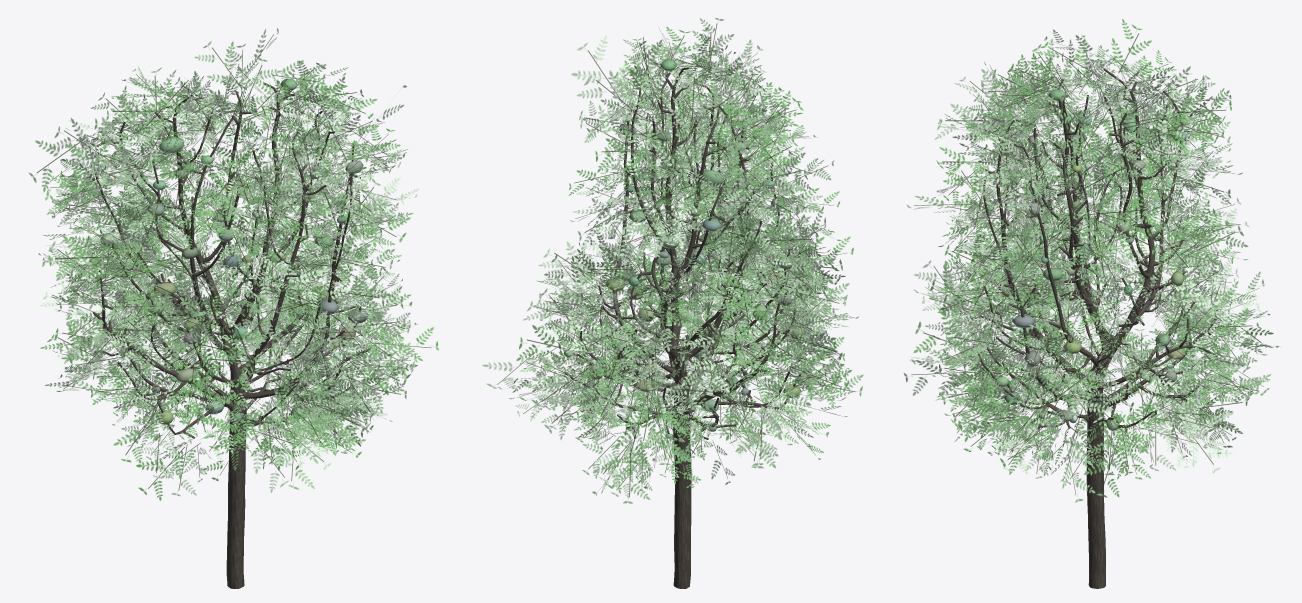
Rendered from tree_65_broadleaf.glb.
The picture shows the model from 3 angles, left to right: view 1: azimuth 30°, elevation 25°; view 2: azimuth 150°, elevation 25°; view 3: azimuth 270°, elevation 25°; orthographic projection.
Visible parts, largest first — view 1: tree_65_broadleaf.leaves, tree_65_broadleaf.trunk_branches, tree_65_broadleaf.foliage_volume; view 2: tree_65_broadleaf.leaves, tree_65_broadleaf.trunk_branches, tree_65_broadleaf.foliage_volume; view 3: tree_65_broadleaf.leaves, tree_65_broadleaf.trunk_branches, tree_65_broadleaf.foliage_volume.
Boxes of the visible parts, box(x1,y1,x2,y2) form: tree_65_broadleaf.leaves: box(29, 28, 438, 500); tree_65_broadleaf.trunk_branches: box(92, 82, 367, 588); tree_65_broadleaf.foliage_volume: box(100, 78, 367, 426); tree_65_broadleaf.leaves: box(482, 18, 863, 503); tree_65_broadleaf.trunk_branches: box(565, 67, 800, 588); tree_65_broadleaf.foliage_volume: box(563, 59, 805, 438); tree_65_broadleaf.leaves: box(903, 19, 1281, 502); tree_65_broadleaf.trunk_branches: box(971, 68, 1221, 588); tree_65_broadleaf.foliage_volume: box(995, 89, 1190, 430).
Size of the model in its own units: 8.02 by 11.91 by 7.82.
Materials: 3 (2 with a texture image).
